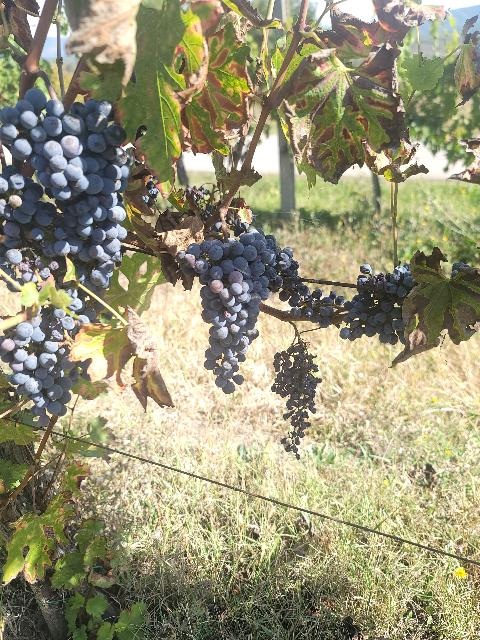grapes: (175, 230, 284, 394), (63, 100, 131, 289), (0, 305, 90, 426), (0, 89, 89, 200), (0, 165, 70, 281), (340, 264, 416, 345), (271, 336, 321, 459)
